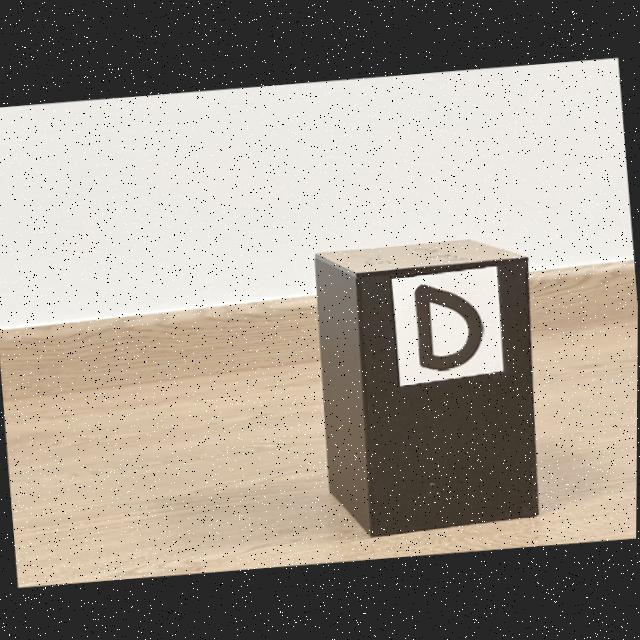D: (415, 284, 484, 370)
